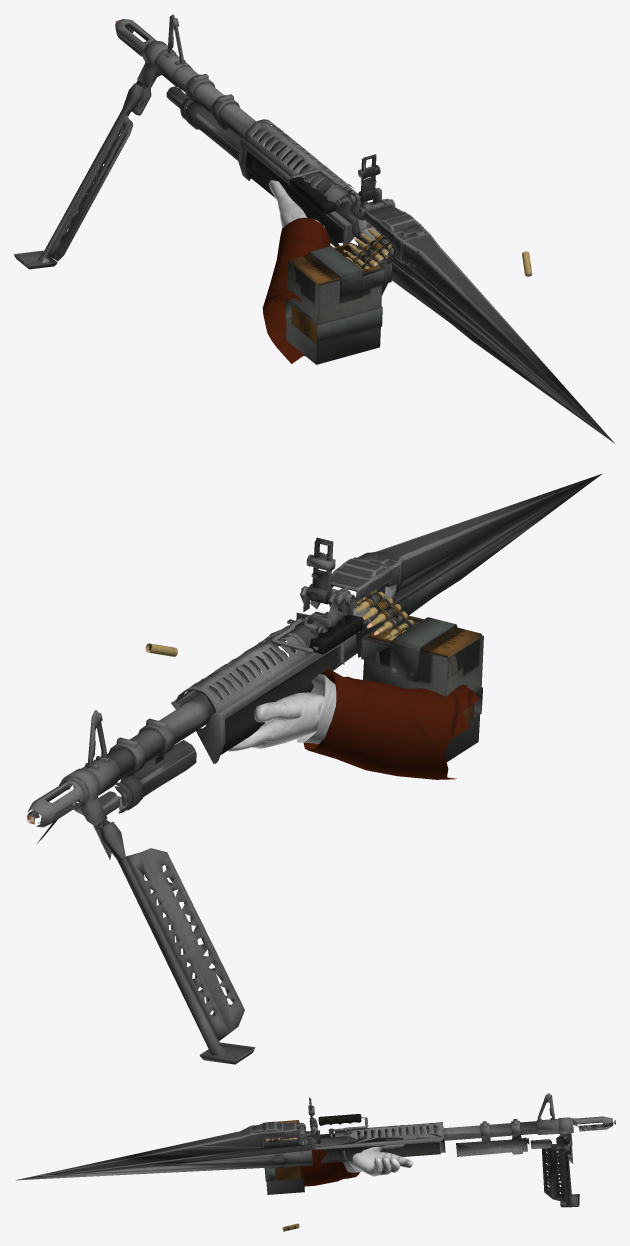
The model's file is frame_26.obj.
3 views of the same model, one above another, from view 1: azimuth 30°, elevation 25°; view 2: azimuth 150°, elevation 25°; view 3: azimuth 270°, elevation 25° (orthographic). The views are drawn at different scales.
Visible parts, largest first — view 1: Mesh.005, PlayerModelMerged.001_PlayerModelMerged, Mesh.001; view 2: Mesh.005, PlayerModelMerged.001_PlayerModelMerged, Mesh.001; view 3: Mesh.005, PlayerModelMerged.001_PlayerModelMerged.
Part boxes in pixels (x1,y1,x2,y2): Mesh.005: [14, 14, 614, 443]; PlayerModelMerged.001_PlayerModelMerged: [262, 180, 330, 363]; Mesh.001: [343, 228, 391, 269]; Mesh.005: [27, 473, 602, 1064]; PlayerModelMerged.001_PlayerModelMerged: [228, 669, 479, 779]; Mesh.001: [355, 591, 414, 638]; Mesh.005: [15, 1093, 613, 1207]; PlayerModelMerged.001_PlayerModelMerged: [300, 1144, 413, 1186].
Size of the model in its own units: 0.8107 by 0.6136 by 2.27.
